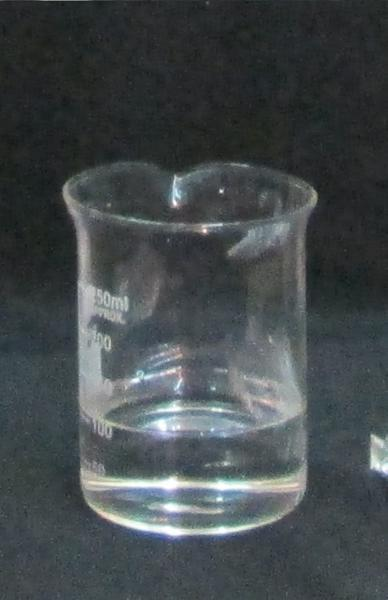Beaker: (55, 149, 322, 538)
